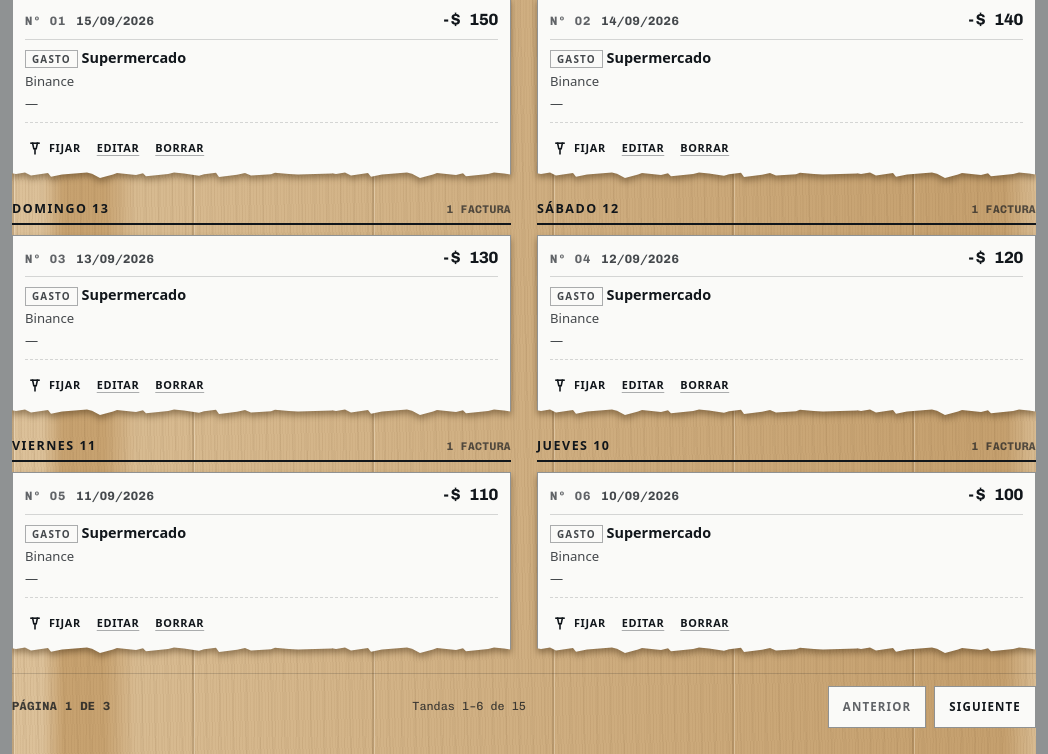
Scenario: Board › sends the reader back to the first page when the search changes
(page scrolled)
Click the button "Siguiente" at [985, 707], box [934,686,1036,728]
(page scrolled)
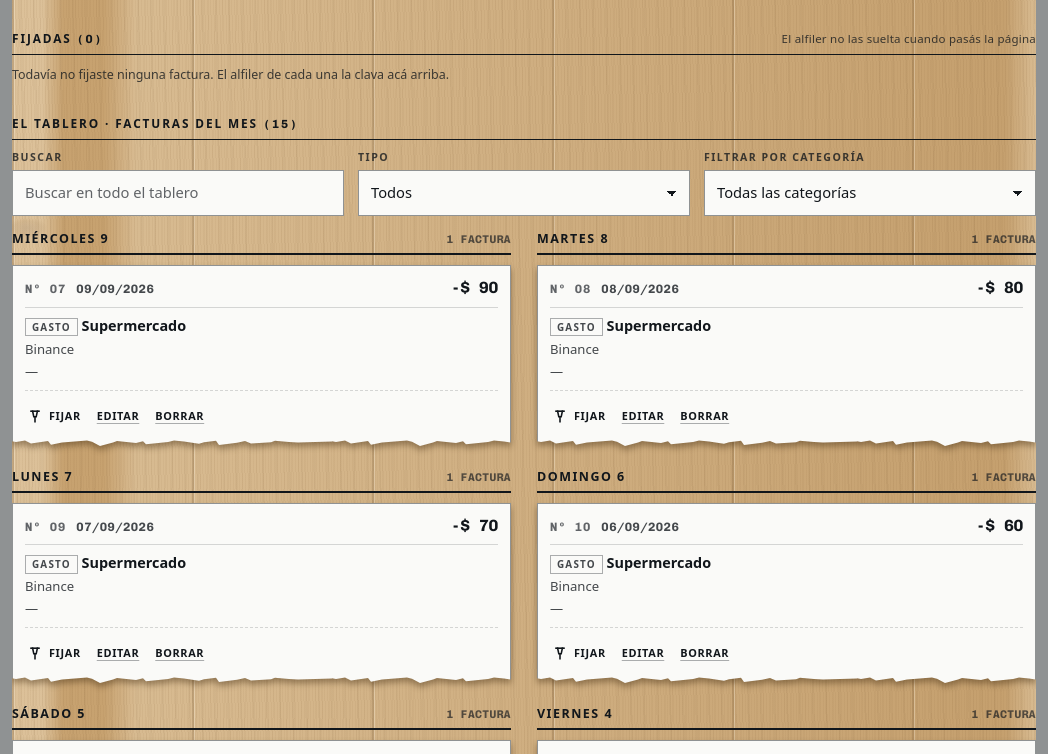
Type "supermercado" into the search field labelled "Buscar" at [178, 193], box [12,170,344,216]
(page scrolled)
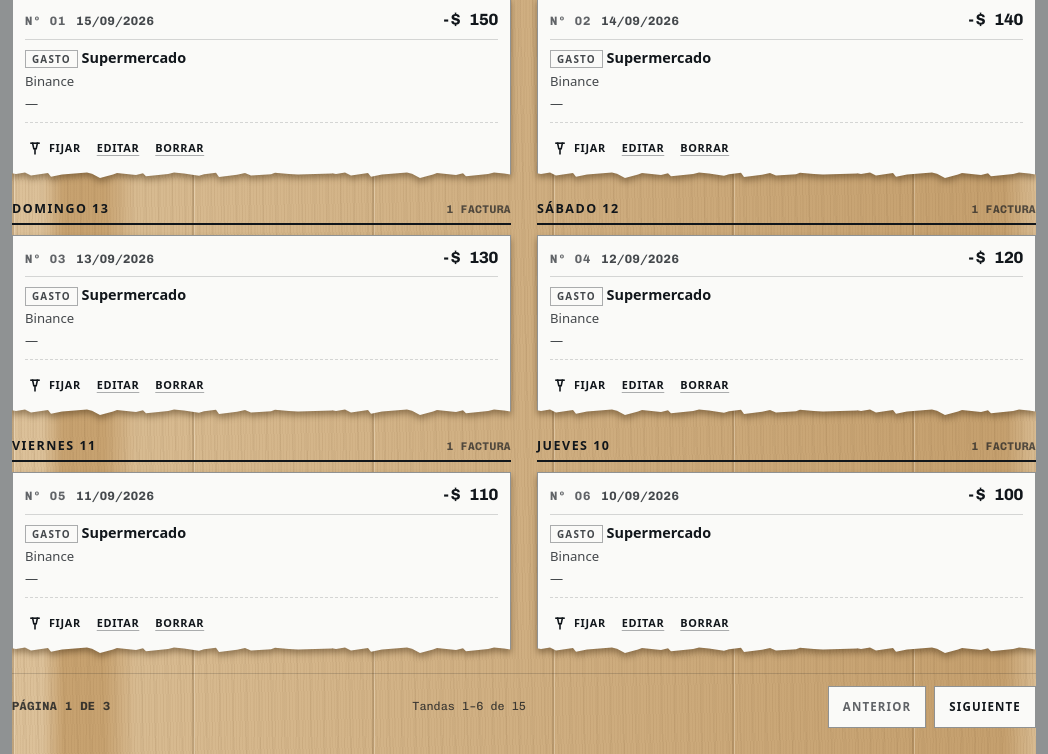
Result: the text "Página 1 de 3" is shown at [12,698,110,716]
Result: the text "Tandas 1–6 de 15" is shown at [412,698,526,716]
